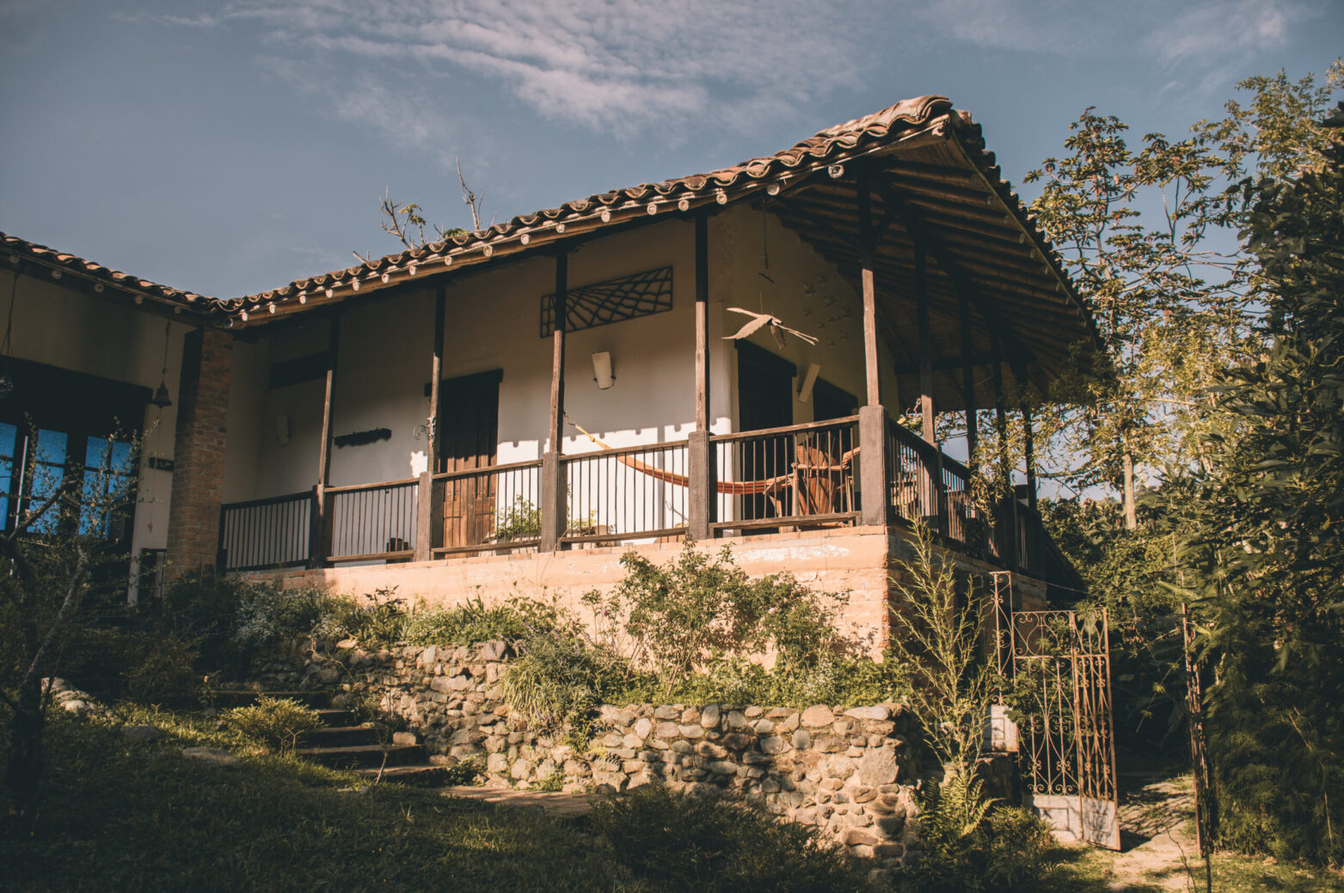House: (10, 135, 1230, 835)
